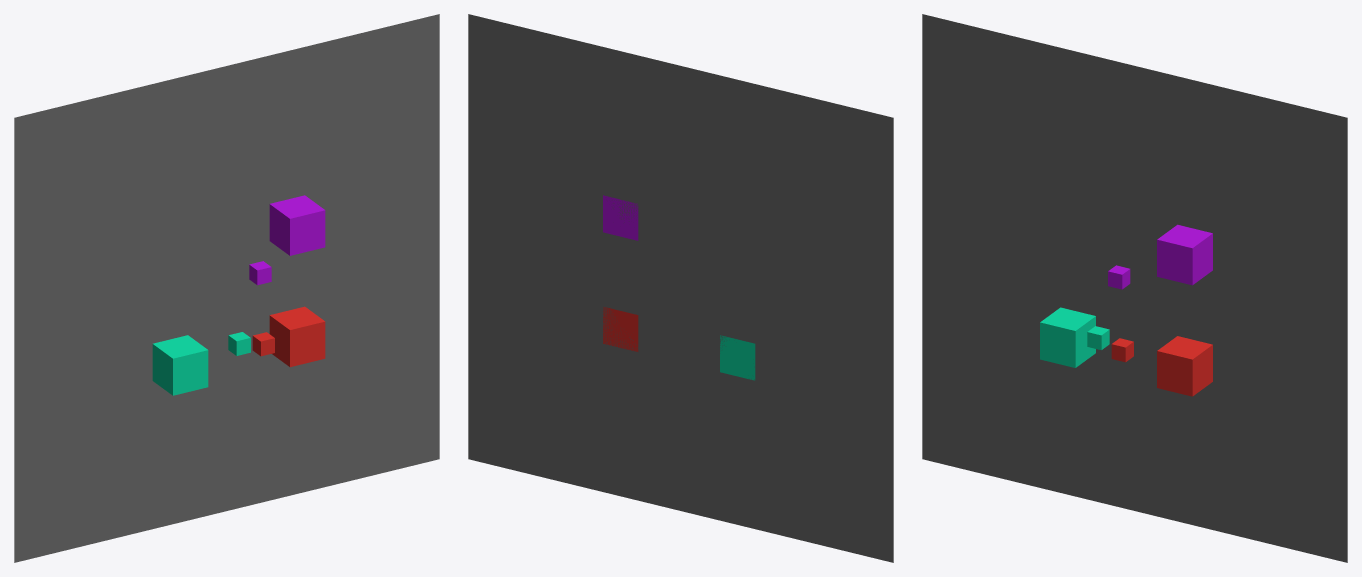
The model's file is proto.glb.
3 renders of one model, left to right at view 1: azimuth 30°, elevation 25°; view 2: azimuth 150°, elevation 25°; view 3: azimuth 330°, elevation 25°, orthographic.
Visible parts, largest first — view 1: Plane, seat.002, seat.003, seat.001; view 2: Plane, seat.003, seat.002, seat.001; view 3: Plane, seat.002, seat.001, seat.003.
Boxes of the visible parts, <box> form: Plane: <box>14,14,439,562</box>; seat.002: <box>269,195,325,255</box>; seat.003: <box>152,335,208,395</box>; seat.001: <box>269,306,325,367</box>; Plane: <box>468,14,893,562</box>; seat.003: <box>720,335,755,380</box>; seat.002: <box>603,195,638,240</box>; seat.001: <box>603,307,638,351</box>; Plane: <box>922,14,1347,562</box>; seat.002: <box>1157,224,1212,285</box>; seat.001: <box>1157,336,1212,396</box>; seat.003: <box>1040,307,1095,367</box>.
Bounding box in the file's own units: 24 × 24 × 2.8.
